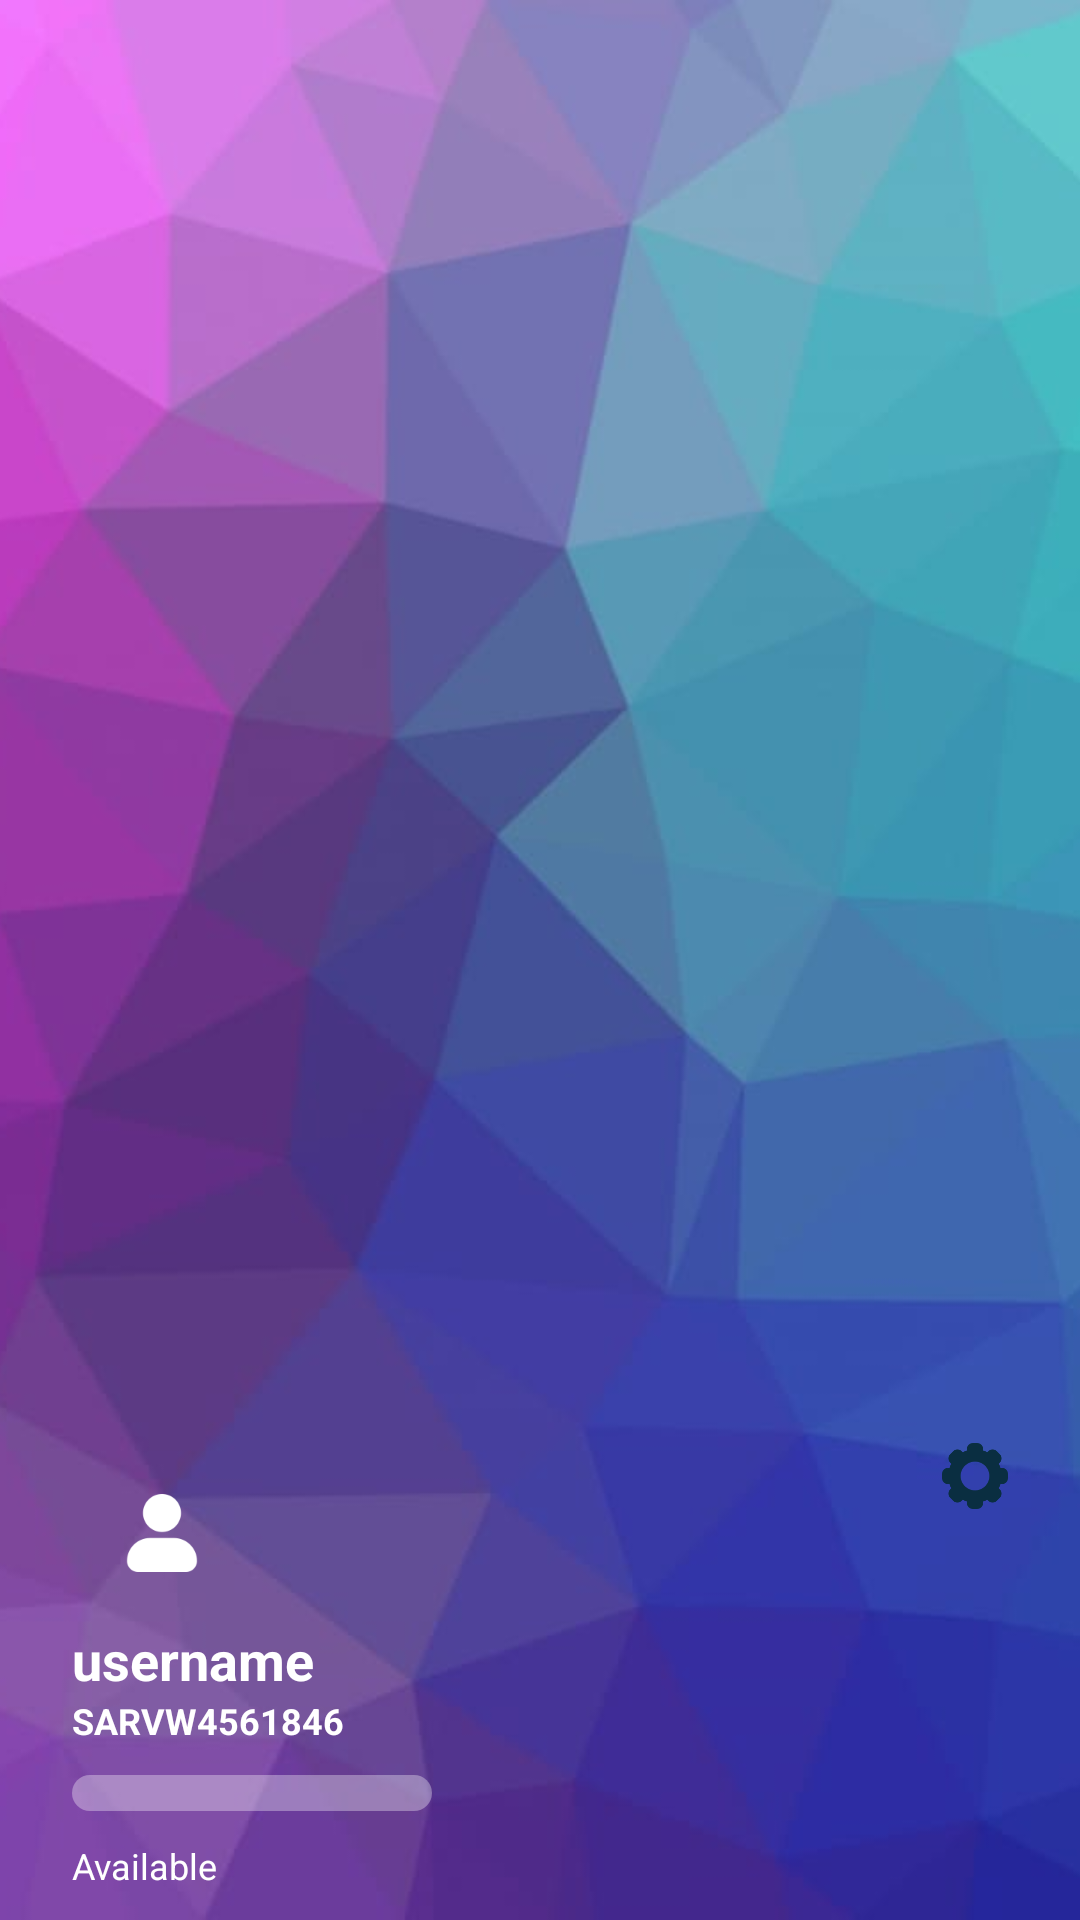

Screen size 1080px x 1920px. Icon name, then its center in pixels as [x,y]:
settings: [975,1476]
